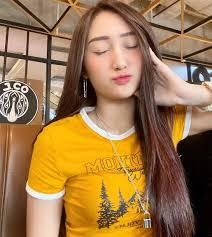Drowsy: (58, 0, 204, 143)
